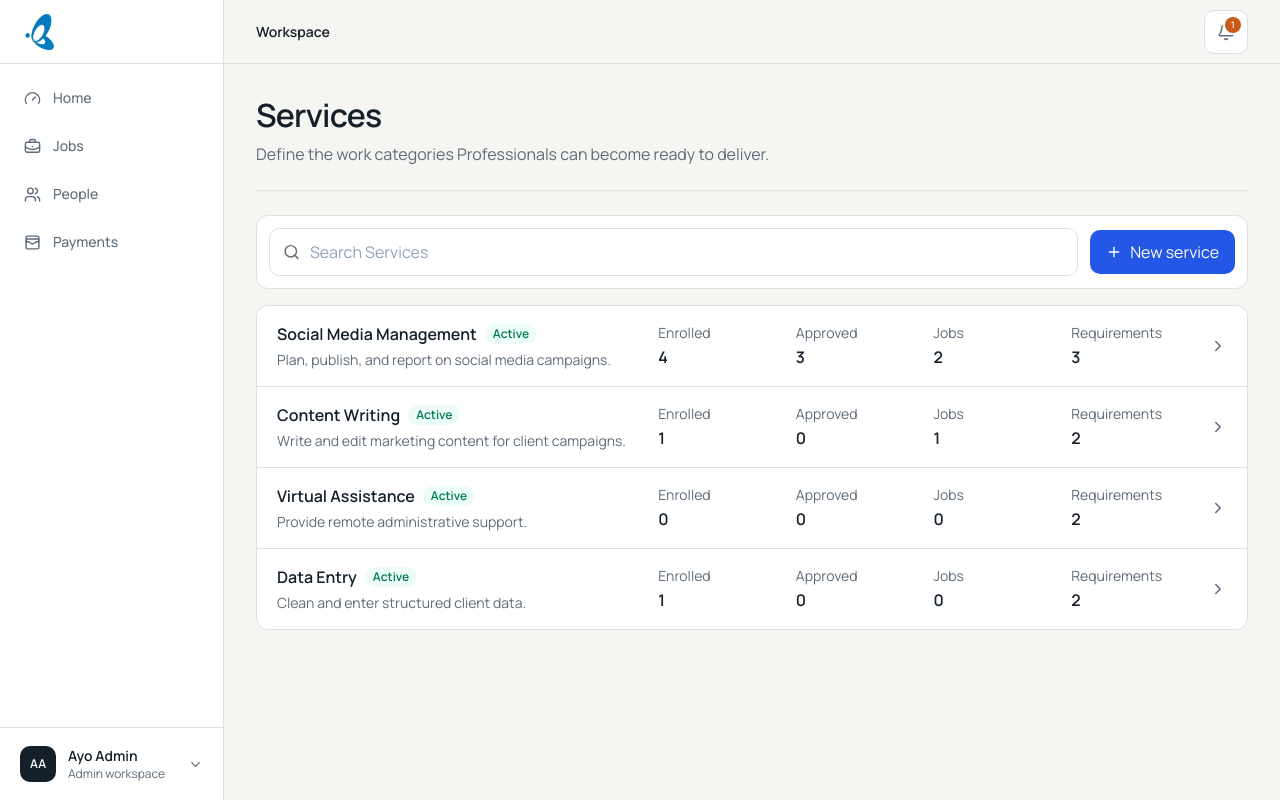
Test: application routing › opens one Service and its ordered readiness requirements
The image size is (1280, 800).
Click the link with aria-label "Open Social Media Management" at x=377, y=334, box x1=257 y1=306 x2=1247 y2=387
(page scrolled)
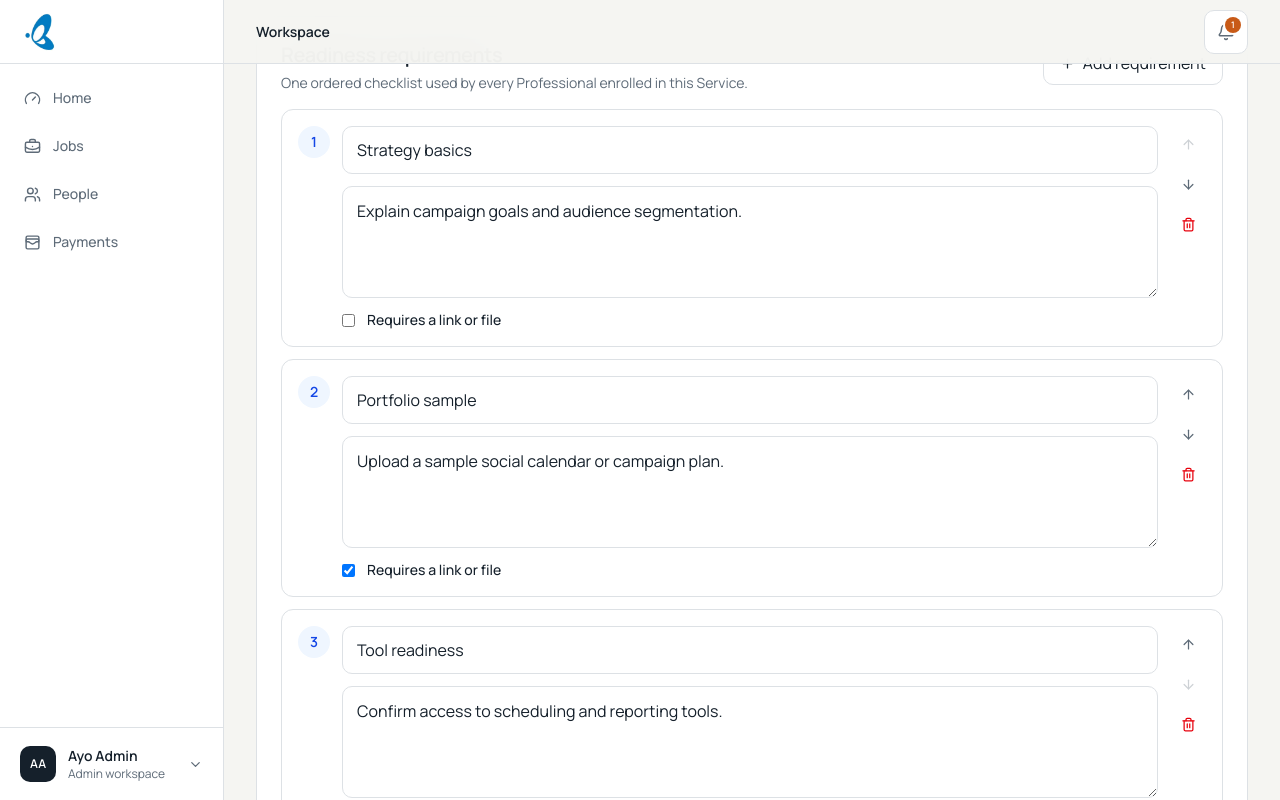
Expected: the field showing "Portfolio sample" is shown, x1=342 y1=376 x2=1158 y2=424
